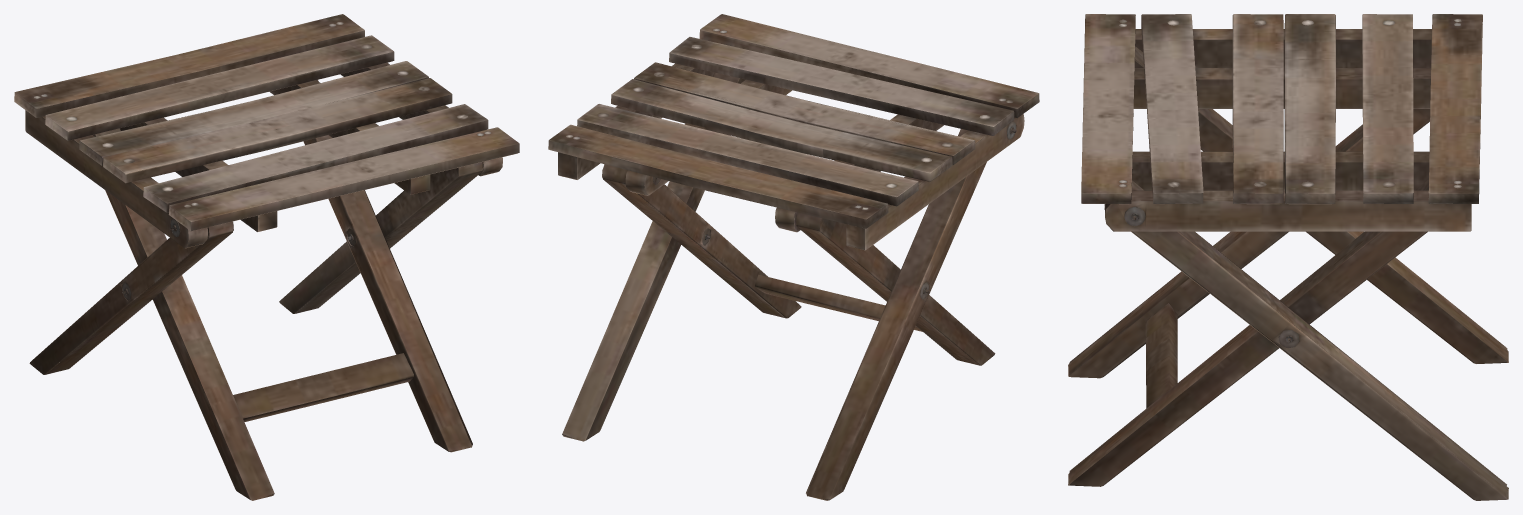
File: stool_folding.glb
3 views of the same model, side by side, from view 1: azimuth 30°, elevation 25°; view 2: azimuth 150°, elevation 25°; view 3: azimuth 270°, elevation 25° (orthographic). The views are drawn at different scales.
Parts seen in each view (by area): view 1: folding_wooden_stool; view 2: folding_wooden_stool; view 3: folding_wooden_stool.
Part boxes in pixels (x1=…): folding_wooden_stool: x1=14, y1=14, x2=519, y2=500; folding_wooden_stool: x1=548, y1=14, x2=1039, y2=500; folding_wooden_stool: x1=1068, y1=14, x2=1508, y2=500.
Size of the model in its own units: 0.527 by 0.4407 by 0.5461.
1 material, 1 textured.
